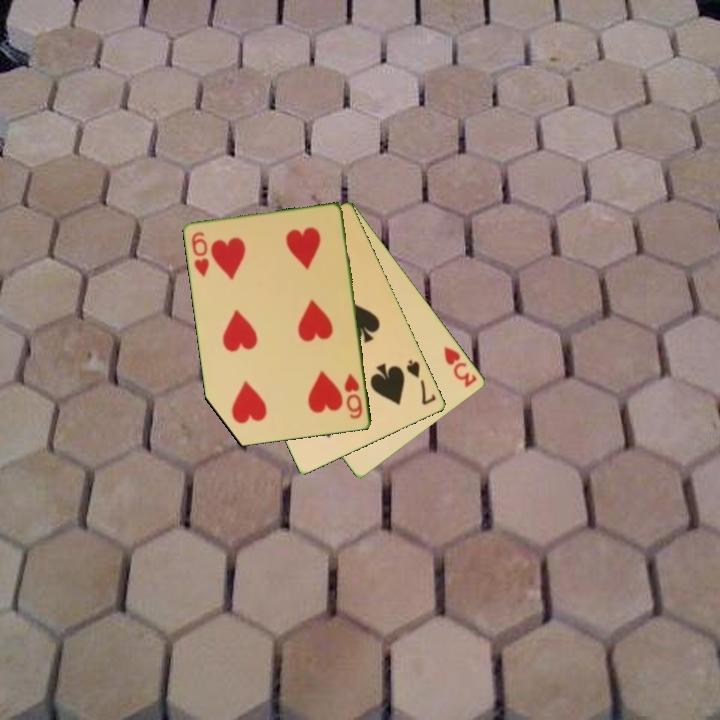3h: (440, 343, 480, 390)
6h: (341, 370, 366, 422), (188, 228, 212, 280)
7s: (403, 356, 439, 408)
